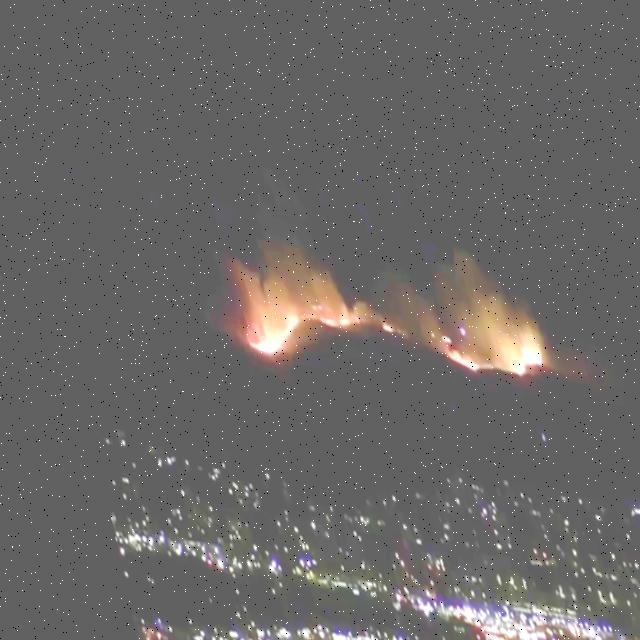Fire: (220, 254, 356, 362), (418, 276, 536, 364), (368, 305, 382, 322)
